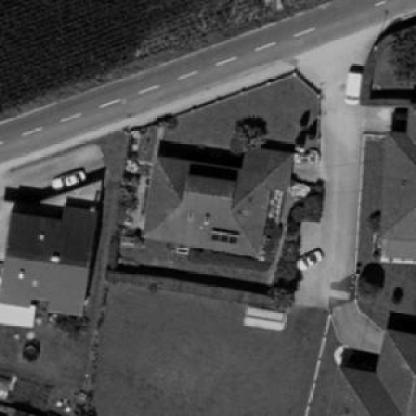solar-pv-panel: (211, 232, 237, 244)
